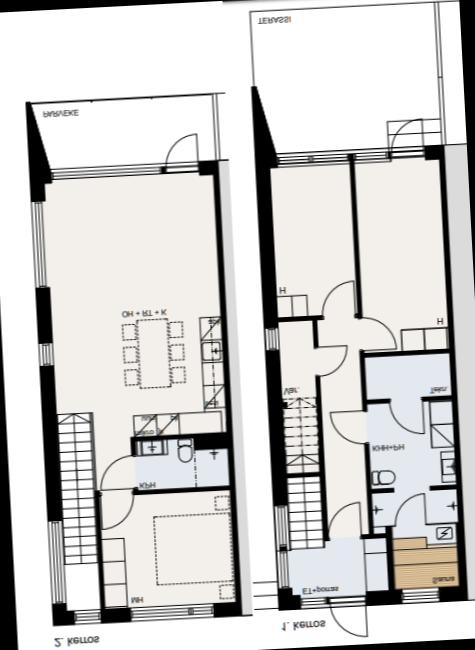door: (91, 486, 138, 534), (325, 594, 370, 639), (326, 406, 372, 450), (381, 117, 427, 161), (93, 452, 138, 496), (314, 276, 357, 322), (353, 312, 397, 356), (158, 130, 202, 174), (382, 393, 427, 436), (308, 340, 350, 382), (325, 498, 366, 541), (390, 489, 430, 526)
window: (46, 158, 161, 189), (39, 516, 70, 612), (266, 500, 296, 592), (120, 599, 220, 626), (26, 196, 52, 295), (271, 144, 352, 174), (394, 585, 444, 608), (348, 143, 390, 168), (258, 324, 284, 356), (32, 338, 56, 371), (67, 606, 104, 625), (295, 595, 329, 612)
